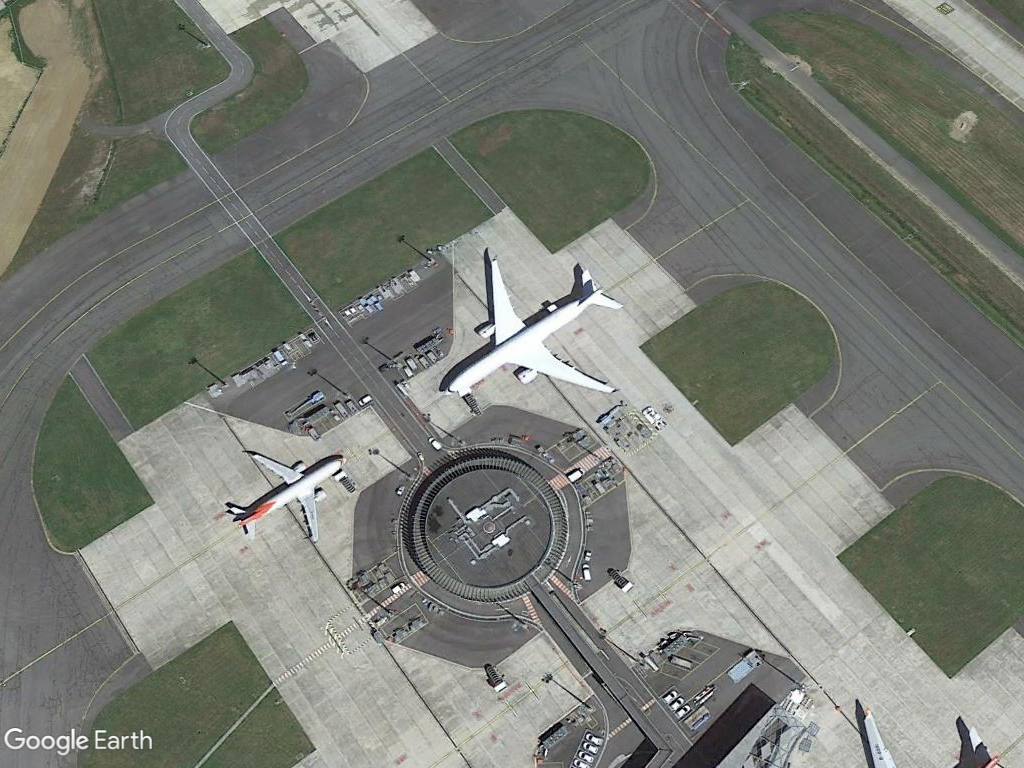airliner: (439, 251, 624, 400), (226, 449, 351, 546)
pushbacktruck: (640, 404, 669, 433)
stairtruck: (605, 565, 638, 596), (480, 660, 509, 694)
